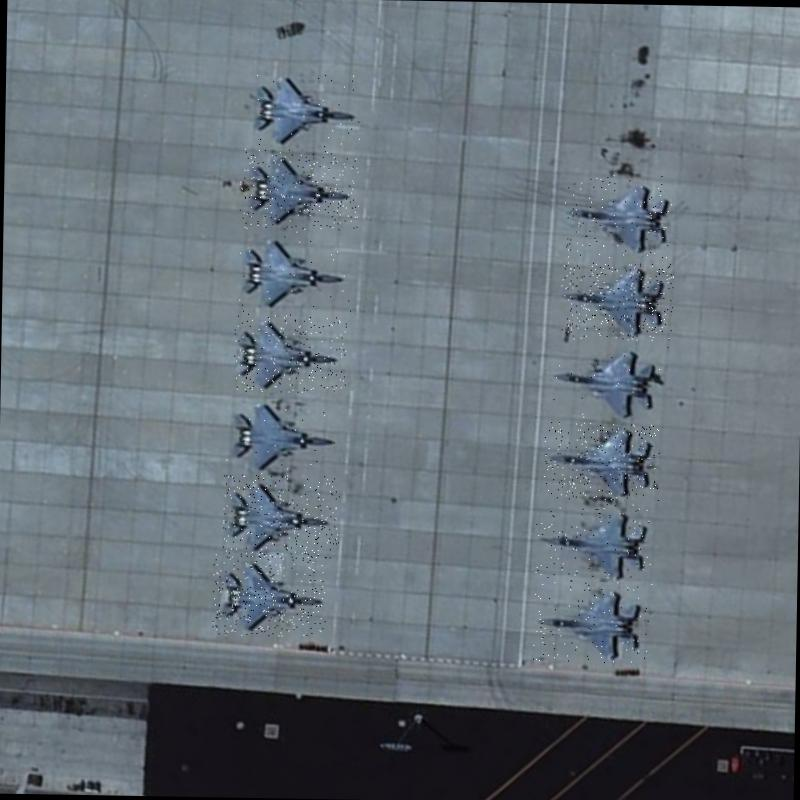A13: (222, 474, 340, 561), (236, 229, 354, 313), (239, 148, 359, 230), (535, 503, 653, 586), (212, 554, 327, 637), (532, 582, 648, 664), (246, 66, 362, 148), (564, 174, 674, 259), (544, 422, 660, 501), (550, 343, 668, 420), (226, 398, 341, 477), (234, 312, 346, 393), (560, 262, 674, 341)
